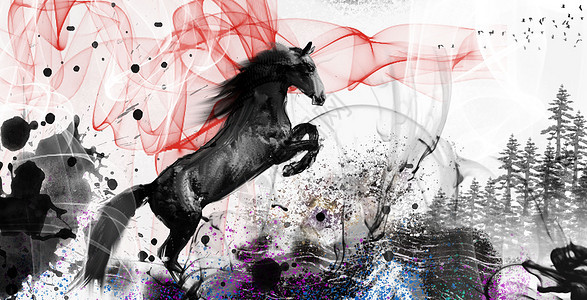background: (76, 42, 327, 291)
